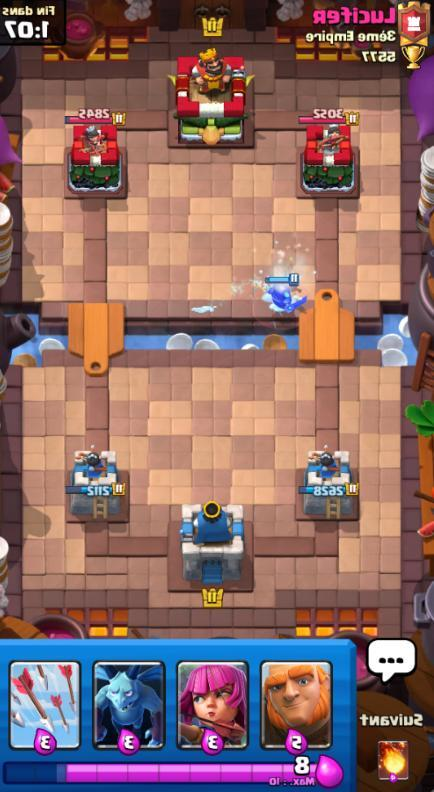player_mini_pekka: (257, 270, 312, 319)
